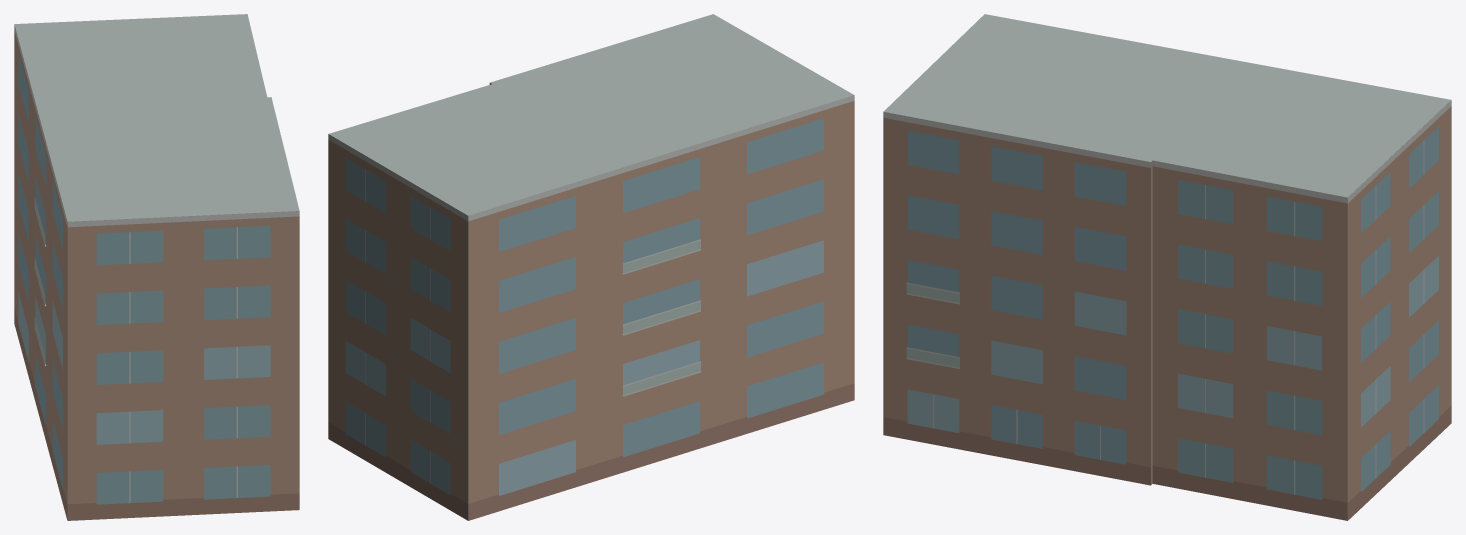
File: survey-upis-32740064.glb
The picture shows the model from 3 angles, left to right: view 1: azimuth 30°, elevation 25°; view 2: azimuth 150°, elevation 25°; view 3: azimuth 270°, elevation 25°; orthographic projection. The views are drawn at different scales.
Parts seen in each view (by area): view 1: survey-upis-32740064.tmp; view 2: survey-upis-32740064.tmp; view 3: survey-upis-32740064.tmp.
Boxes of the visible parts, x1,y1,x2,y2 form: survey-upis-32740064.tmp: (14, 14, 299, 520); survey-upis-32740064.tmp: (328, 14, 854, 520); survey-upis-32740064.tmp: (883, 14, 1451, 520).
Size of the model in its own units: 16.2 by 13.3 by 21.2.
